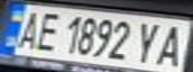1: (57, 12, 84, 55)
2: (109, 17, 139, 63)
8: (75, 14, 96, 56)
9: (93, 16, 118, 60)
A: (151, 21, 193, 68), (9, 8, 45, 51)
E: (30, 9, 63, 52)
Y: (130, 19, 166, 65)
